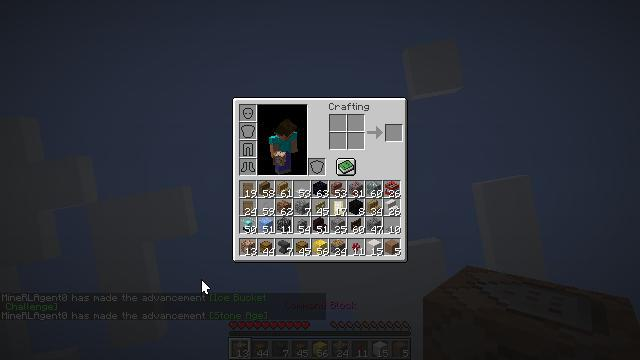cursor: (201, 279, 211, 295)
